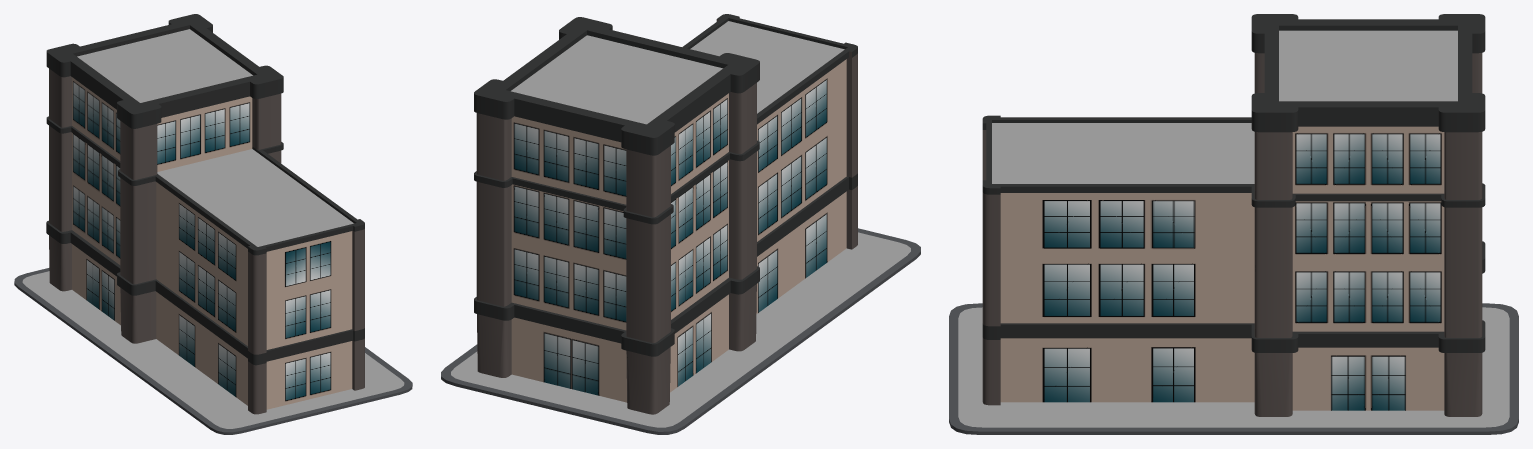
The model's file is Neutre_Bat_2.fbx.
The picture shows the model from 3 angles, left to right: view 1: azimuth 30°, elevation 25°; view 2: azimuth 150°, elevation 25°; view 3: azimuth 270°, elevation 25°; orthographic projection. The views are drawn at different scales.
Visible parts, largest first — view 1: Neutre_Bat_2; view 2: Neutre_Bat_2; view 3: Neutre_Bat_2.
Part boxes in pixels (<box>): Neutre_Bat_2: <box>14,14,412,434</box>; Neutre_Bat_2: <box>441,14,920,434</box>; Neutre_Bat_2: <box>949,14,1518,434</box>.
Bounding box in the file's own units: 315 × 354 × 592.
